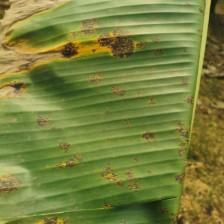pestalotiopsis: (0, 0, 210, 224)
